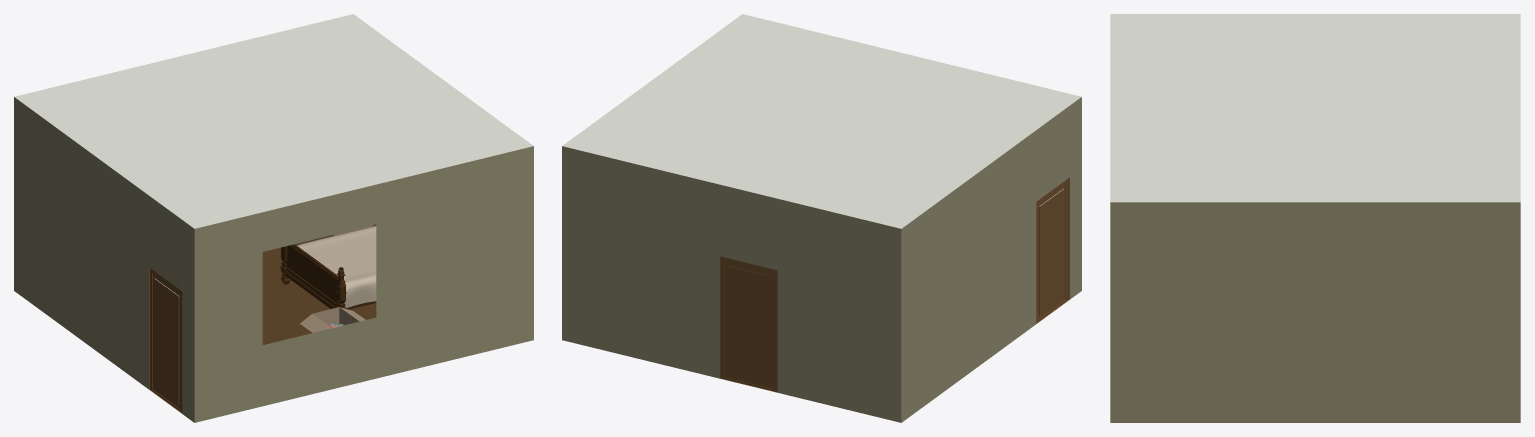
The model's file is Bedroom_V2.fbx.
3 views of the same model, side by side, from view 1: azimuth 30°, elevation 25°; view 2: azimuth 150°, elevation 25°; view 3: azimuth 270°, elevation 25° (orthographic). The views are drawn at different scales.
Visible parts, largest first — view 1: HouseBase, blanket, main, Box_Open; view 2: HouseBase; view 3: HouseBase.
Part boxes in pixels (x1,y1,x2,y2): HouseBase: (14,14,533,422); blanket: (297,225,376,307); main: (285,244,376,309); Box_Open: (300,307,365,332); HouseBase: (562,14,1081,422); HouseBase: (1110,14,1520,422).
Size of the model in its own units: 10967 by 6042 by 10101.
